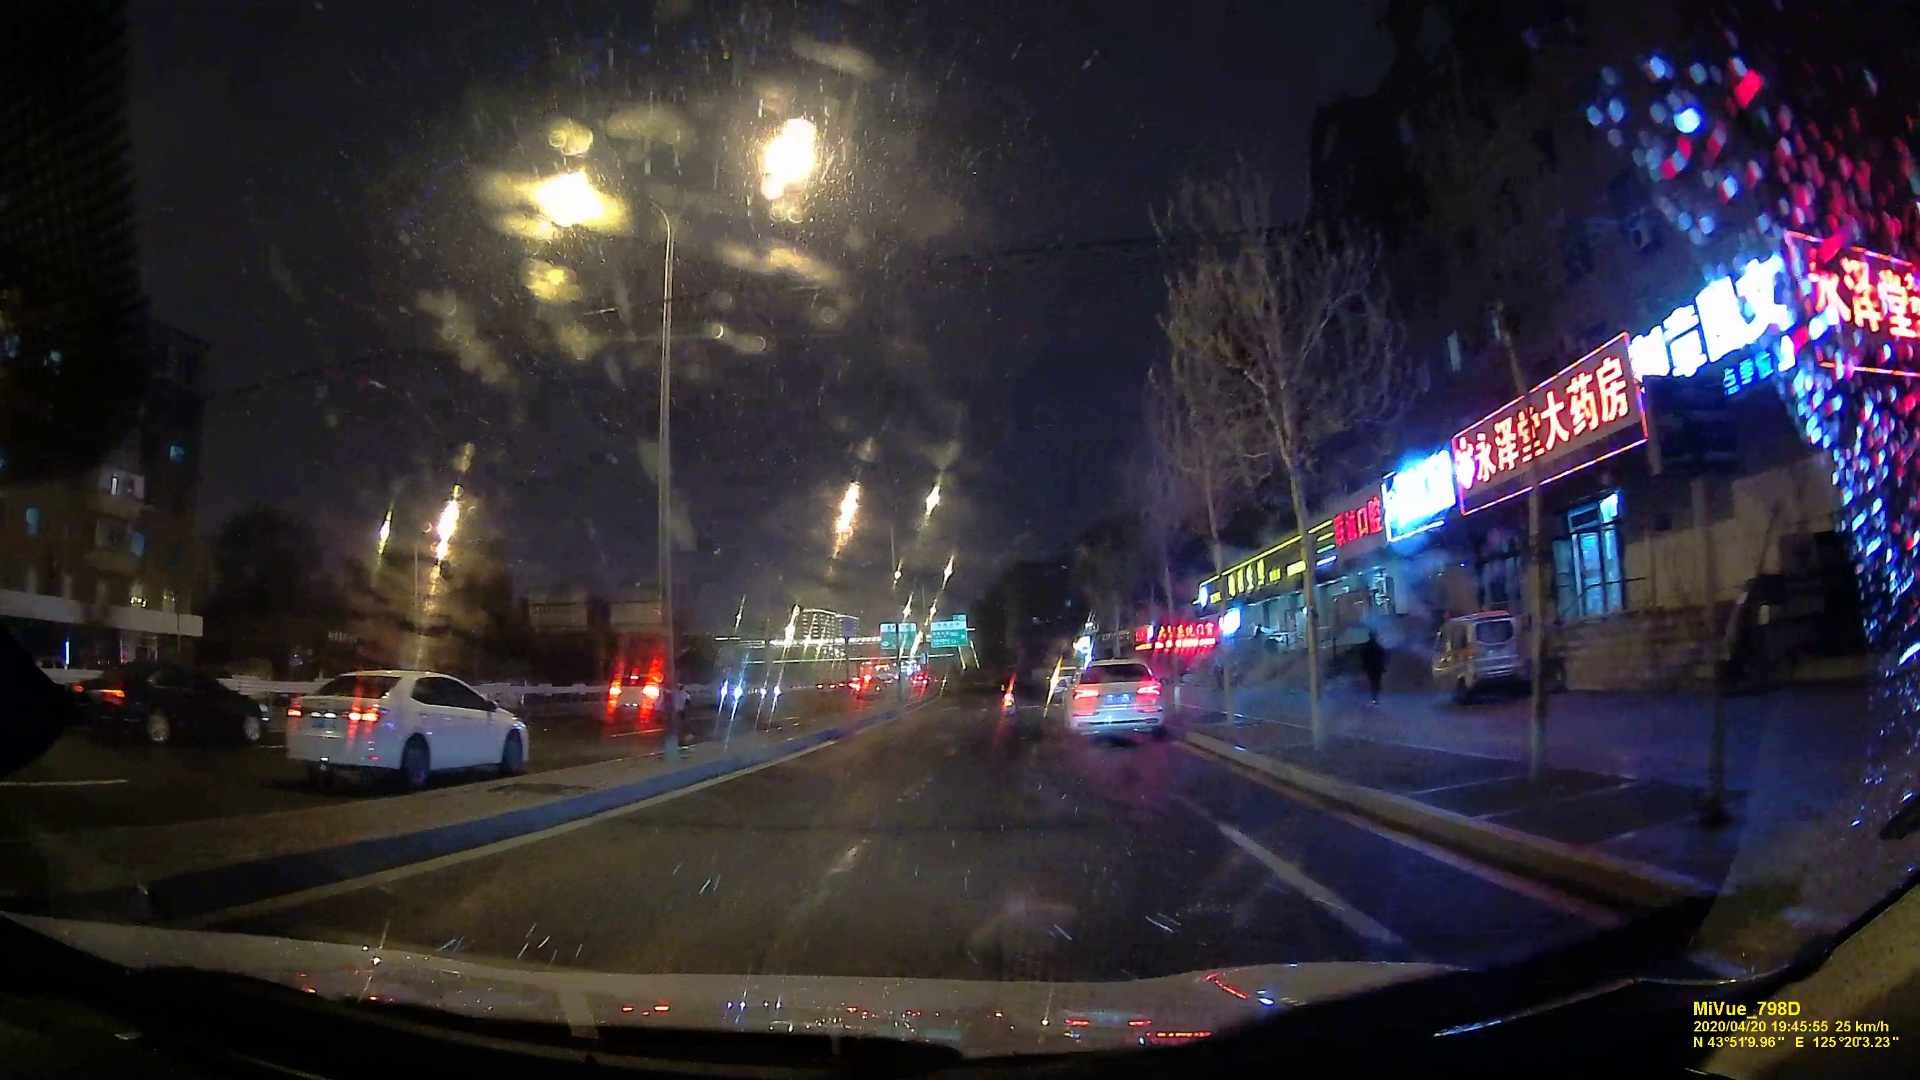person: (1359, 629, 1389, 712)
traffic_sign: (879, 622, 914, 648), (930, 622, 965, 644)
vehicle: (281, 667, 531, 788), (1068, 655, 1169, 737), (603, 670, 686, 717)
